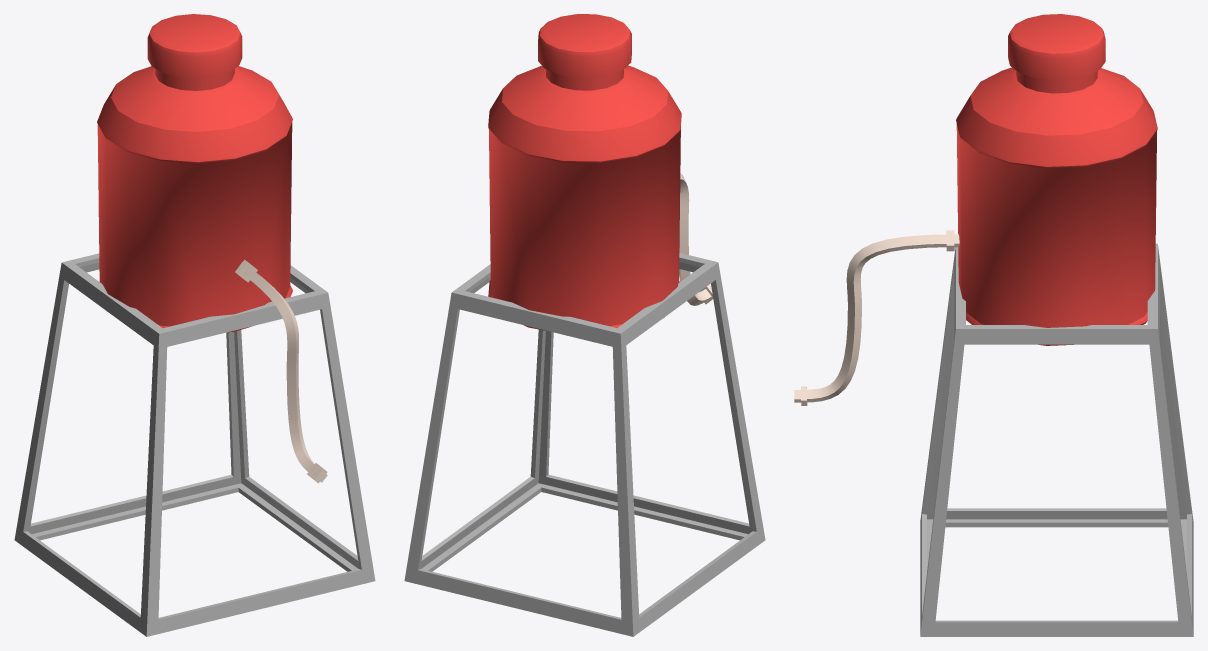
The model's file is Props_WaterTank.fbx.
3 views of the same model, side by side, from view 1: azimuth 30°, elevation 25°; view 2: azimuth 150°, elevation 25°; view 3: azimuth 270°, elevation 25° (orthographic). The views are drawn at different scales.
Visible parts, largest first — view 1: Props_WaterTank; view 2: Props_WaterTank; view 3: Props_WaterTank.
Part boxes in pixels (x1,y1,x2,y2): Props_WaterTank: (14,14,375,636); Props_WaterTank: (404,14,765,636); Props_WaterTank: (794,14,1193,636).
Bounding box in the file's own units: 271 × 598 × 395.
